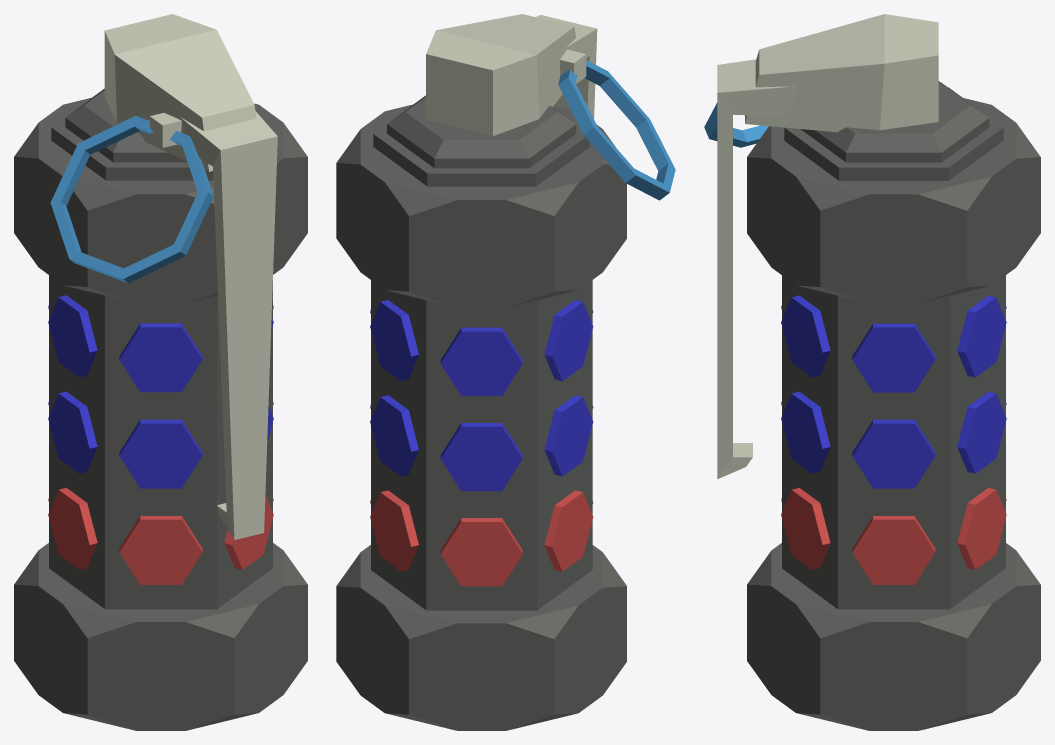
Rendered from Flash_Granade.fbx.
3 renders of one model, left to right at view 1: azimuth 30°, elevation 25°; view 2: azimuth 150°, elevation 25°; view 3: azimuth 270°, elevation 25°, orthographic.
Visible parts, largest first — view 1: Circle.003; view 2: Circle.003; view 3: Circle.003.
Part boxes in pixels (box(x1,y1,x2,y2)): Circle.003: box(14, 14, 307, 730); Circle.003: box(336, 14, 675, 730); Circle.003: box(704, 14, 1040, 730).
Size of the model in its own units: 40.96 by 99.47 by 47.55.
